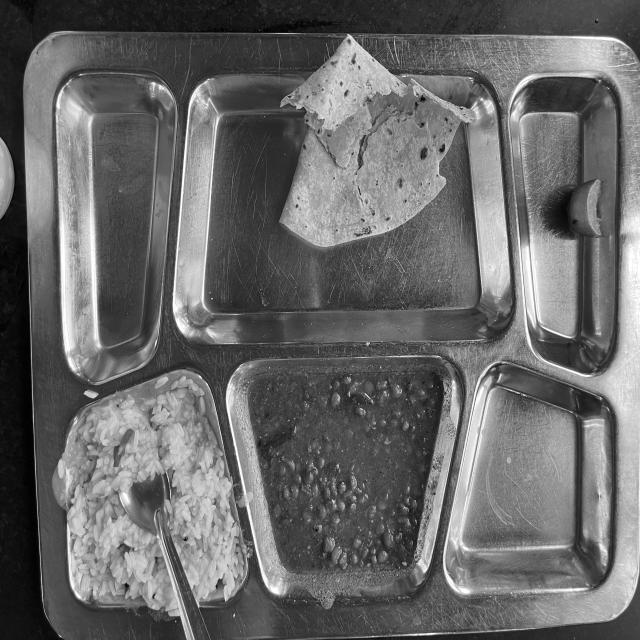70-Food-Left: (40, 53, 619, 612)
